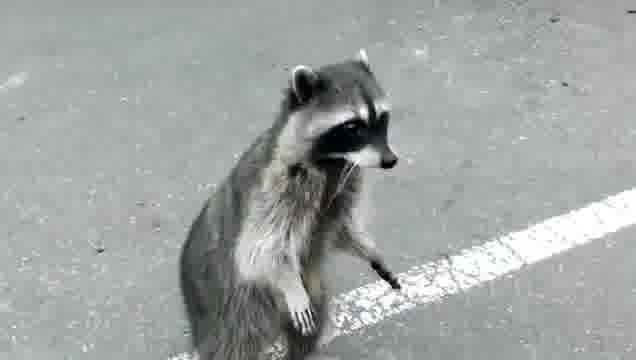raccoon: (180, 49, 401, 360)
